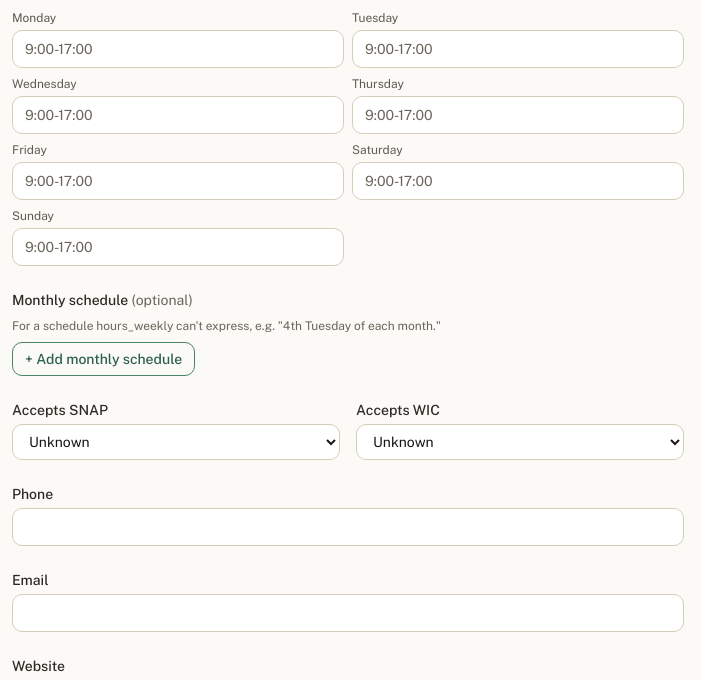
AddVenueForm — monthly schedule fieldset › 'Add monthly schedule' reveals a recurrence-kind picker; picking 'specific weekday' reveals ordinal + weekday selects
(page scrolled)
Click the button "+ Add monthly schedule" at x=104, y=359, box [12, 342, 195, 376]
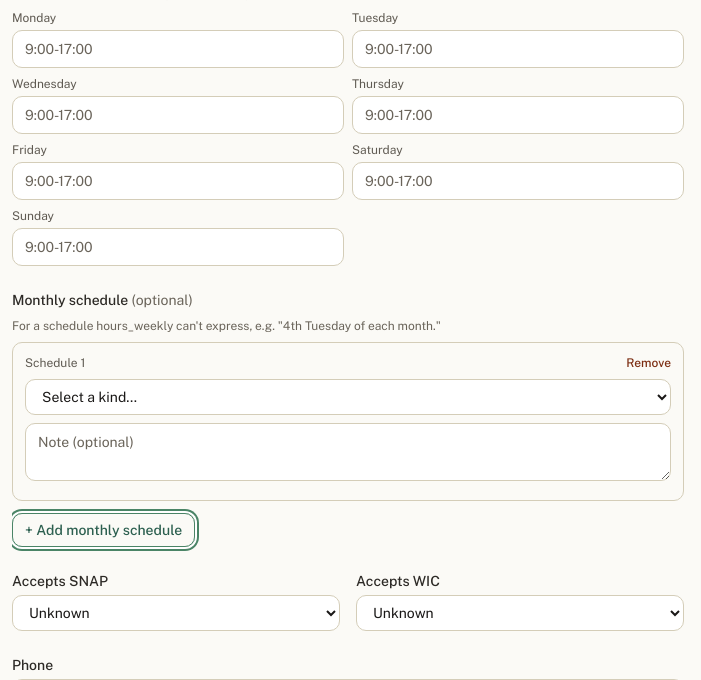
Select "A specific weekday each month (e.g. 4th Tuesday)" in the dropdown labelled "Schedule 1" at x=348, y=397, box [25, 379, 671, 415]
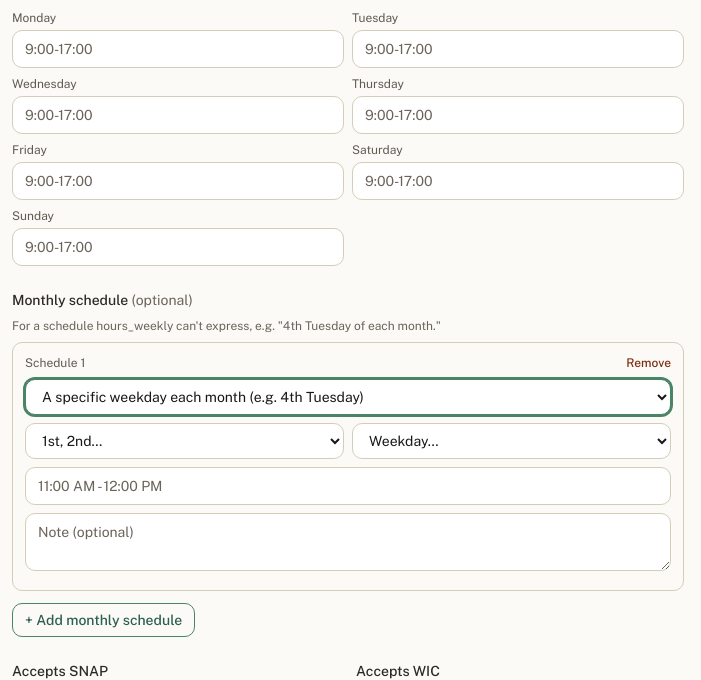
Check: the dropdown named "Schedule 1 ordinal" is shown, box [25, 423, 344, 459]
Check: the dropdown named "Schedule 1 weekday" is shown, box [352, 423, 671, 459]
